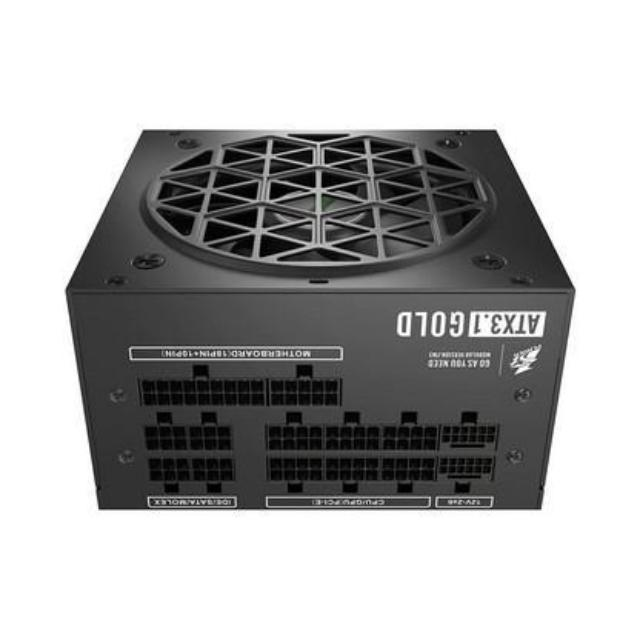PSU: (60, 112, 582, 530)
